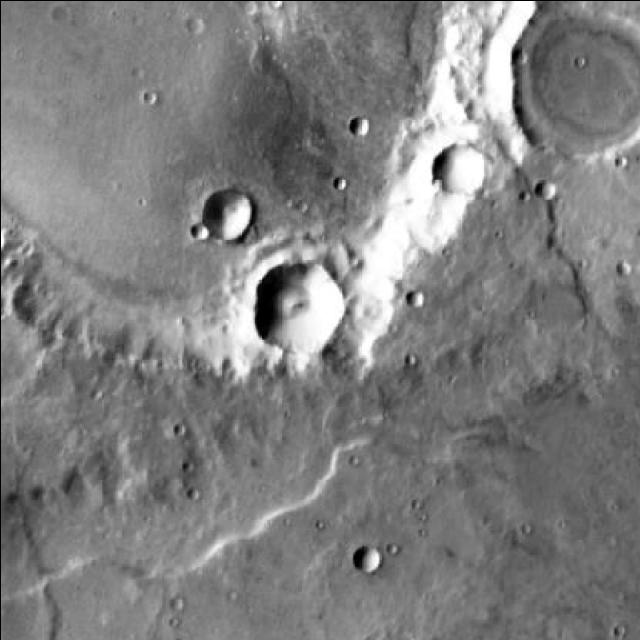crater: (0, 0, 528, 374), (512, 2, 640, 156), (256, 258, 350, 350), (207, 190, 258, 241), (439, 143, 490, 192), (356, 544, 382, 570), (539, 178, 559, 198), (188, 218, 205, 235), (406, 290, 423, 307)
